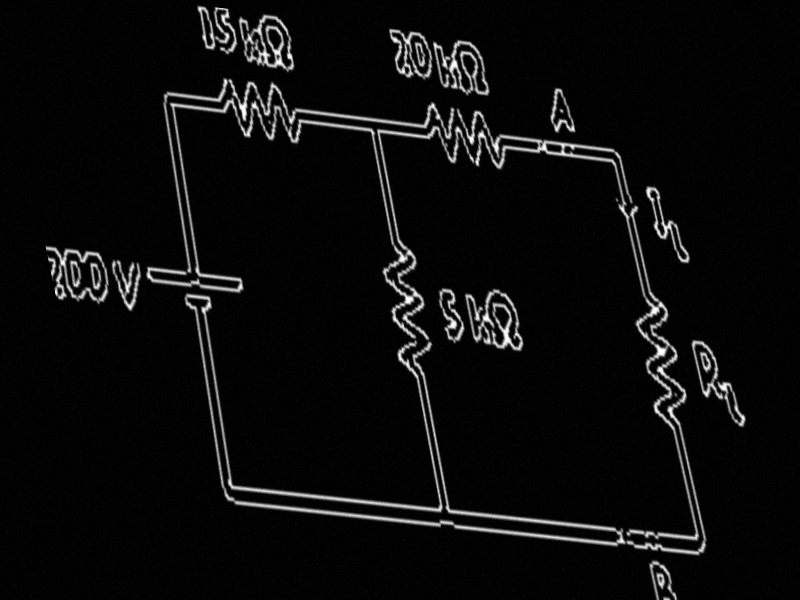0: (54, 240, 94, 303), (77, 247, 116, 307), (404, 30, 438, 82)
1: (193, 5, 221, 55)
2: (45, 243, 72, 301), (387, 28, 417, 80)
5: (434, 285, 469, 346), (209, 7, 242, 56)
A: (542, 84, 579, 137)
V: (105, 255, 152, 314)
k: (462, 290, 496, 351), (430, 39, 462, 95), (234, 14, 267, 68)
